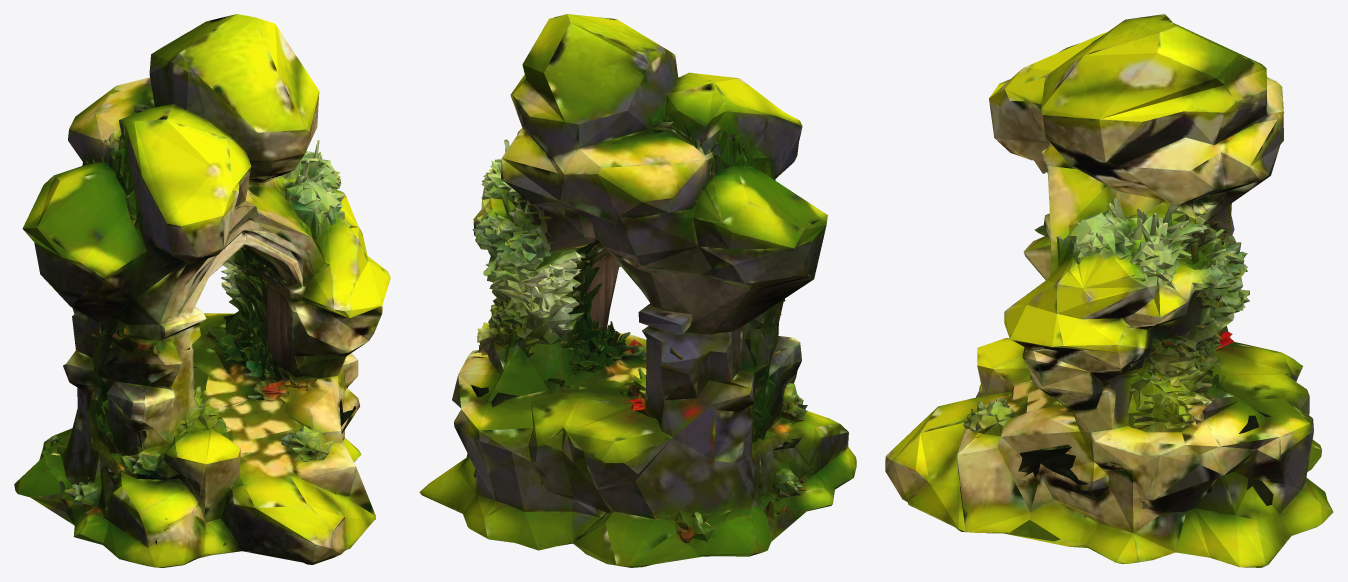
File: nature_rock_cluster_02.glb
3 renders of one model, left to right at view 1: azimuth 30°, elevation 25°; view 2: azimuth 150°, elevation 25°; view 3: azimuth 270°, elevation 25°, orthographic. The views are drawn at different scales.
Visible parts, largest first — view 1: geometry_0; view 2: geometry_0; view 3: geometry_0.
Part boxes in pixels (x1,y1,x2,y2): geometry_0: (14, 14, 390, 567); geometry_0: (419, 14, 856, 567); geometry_0: (885, 14, 1333, 567).
Bounding box in the file's own units: 0.7565 × 0.9983 × 0.8345.
Materials: 1 (1 with a texture image).
